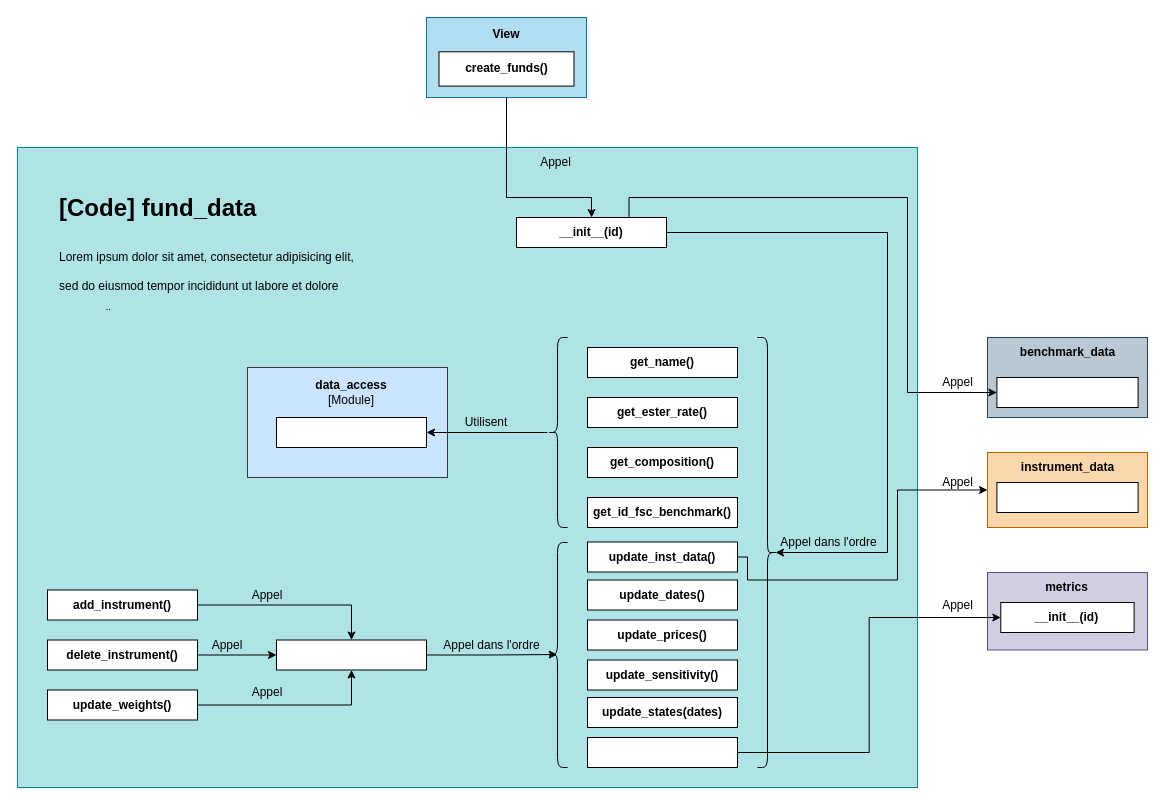
Image size: 1165x805. Some labels were removed from this diagram. The shapes that lost their labels are listed below. From the top down, each one's centre as x and y in pixels, then its label:
At pixel 1067 392: "create(id)".
At pixel 351 432: "load_sql()".
At pixel 1067 497: "__init__(id, ester)".
At pixel 351 654: "update_chain()".
At pixel 662 752: "update_metrics()".
